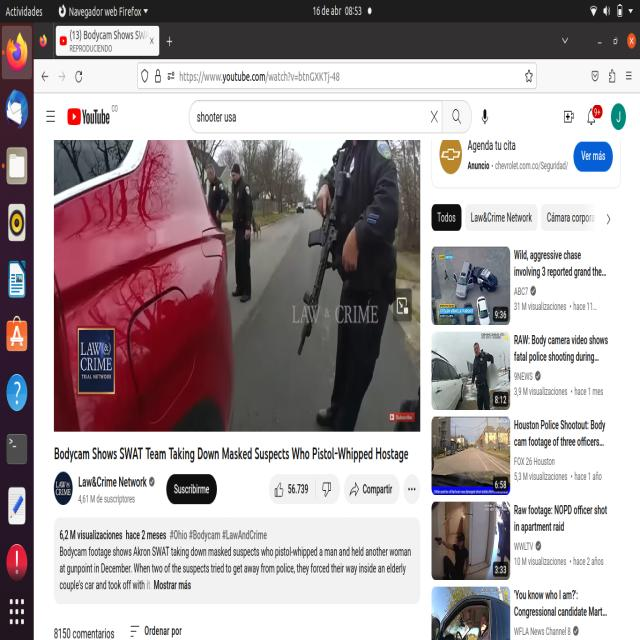Rifle: (296, 143, 348, 365)
